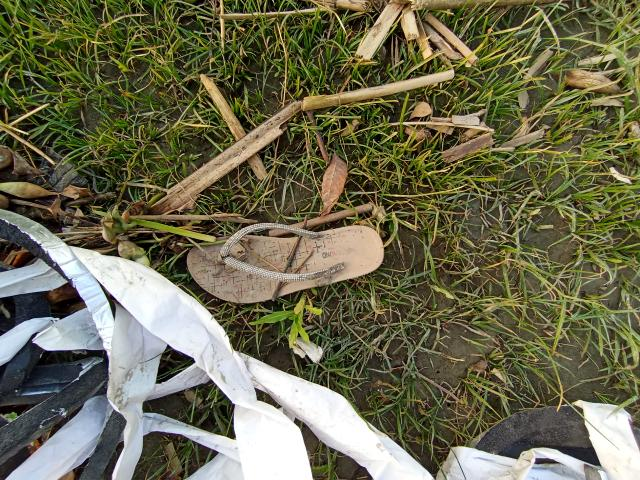sandal: (181, 216, 396, 307)
